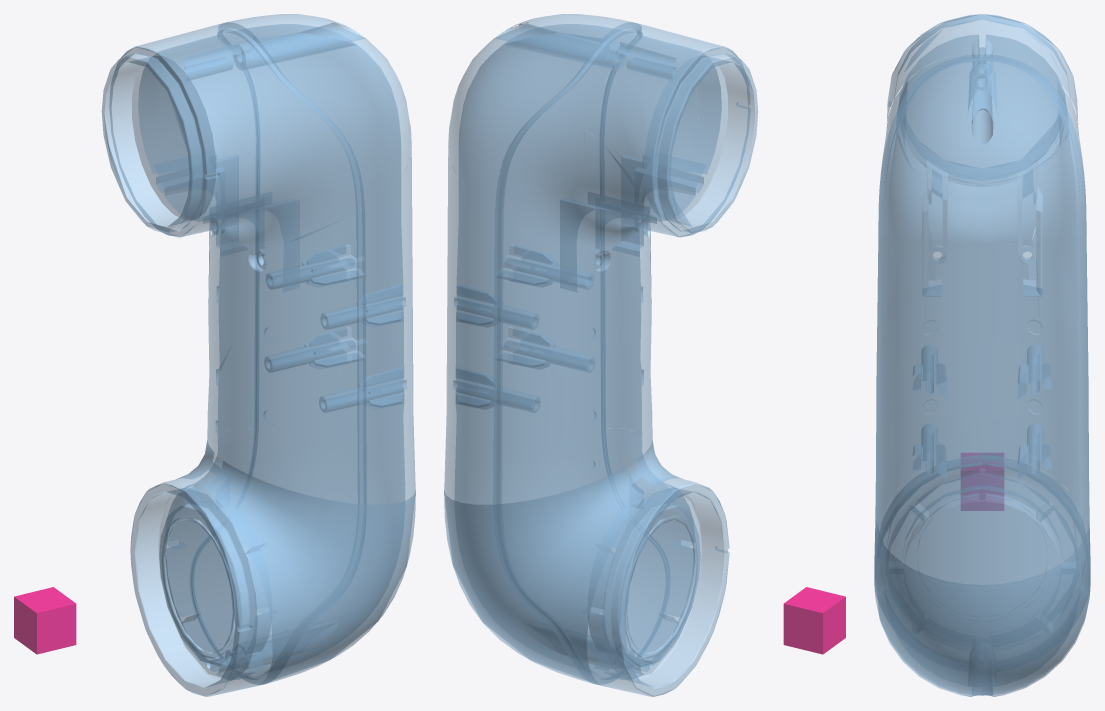
The model's file is MyCobotPi_J2.gltf.
3 views of the same model, side by side, from view 1: azimuth 30°, elevation 25°; view 2: azimuth 150°, elevation 25°; view 3: azimuth 270°, elevation 25° (orthographic). The views are drawn at different scales.
Visible parts, largest first — view 1: polySurface146, polySurface147, J2_Cube; view 2: polySurface146, polySurface147, J2_Cube; view 3: polySurface146, polySurface147, J2_Cube.
Boxes of the visible parts, x1,y1,x2,y2 form: polySurface146: (101, 22, 415, 696); polySurface147: (191, 14, 415, 684); J2_Cube: (14, 587, 76, 654); polySurface146: (444, 22, 758, 696); polySurface147: (444, 14, 668, 684); J2_Cube: (783, 587, 845, 654); polySurface146: (874, 14, 1090, 695); polySurface147: (874, 54, 1090, 696); J2_Cube: (961, 453, 1003, 510).
Bounding box in the file's own units: 0.0948 × 0.1562 × 0.0492.
